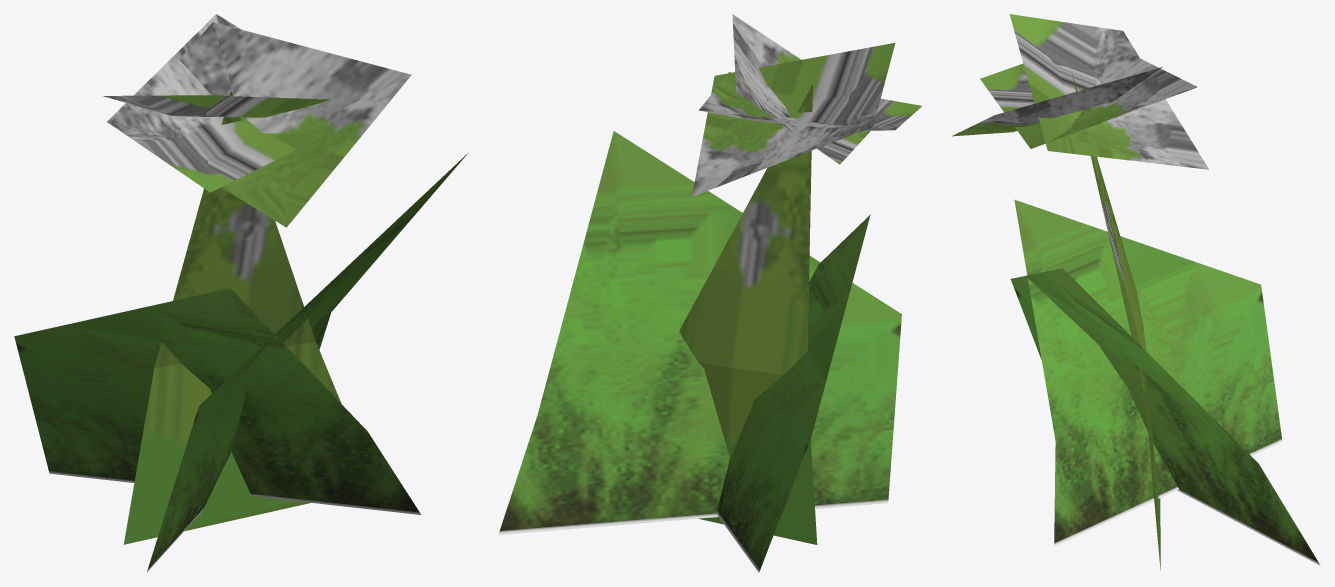
Rendered from Fleur_01A.fbx.
The picture shows the model from 3 angles, left to right: view 1: azimuth 30°, elevation 25°; view 2: azimuth 150°, elevation 25°; view 3: azimuth 270°, elevation 25°; orthographic projection. The views are drawn at different scales.
Parts seen in each view (by area): view 1: Fleur_01A; view 2: Fleur_01A; view 3: Fleur_01A.
Part boxes in pixels (box(x1,y1,x2,y2)): Fleur_01A: box(14, 14, 468, 571); Fleur_01A: box(498, 14, 921, 572); Fleur_01A: box(952, 14, 1320, 570).
Bounding box in the file's own units: 0.4753 × 0.6877 × 0.5115.
